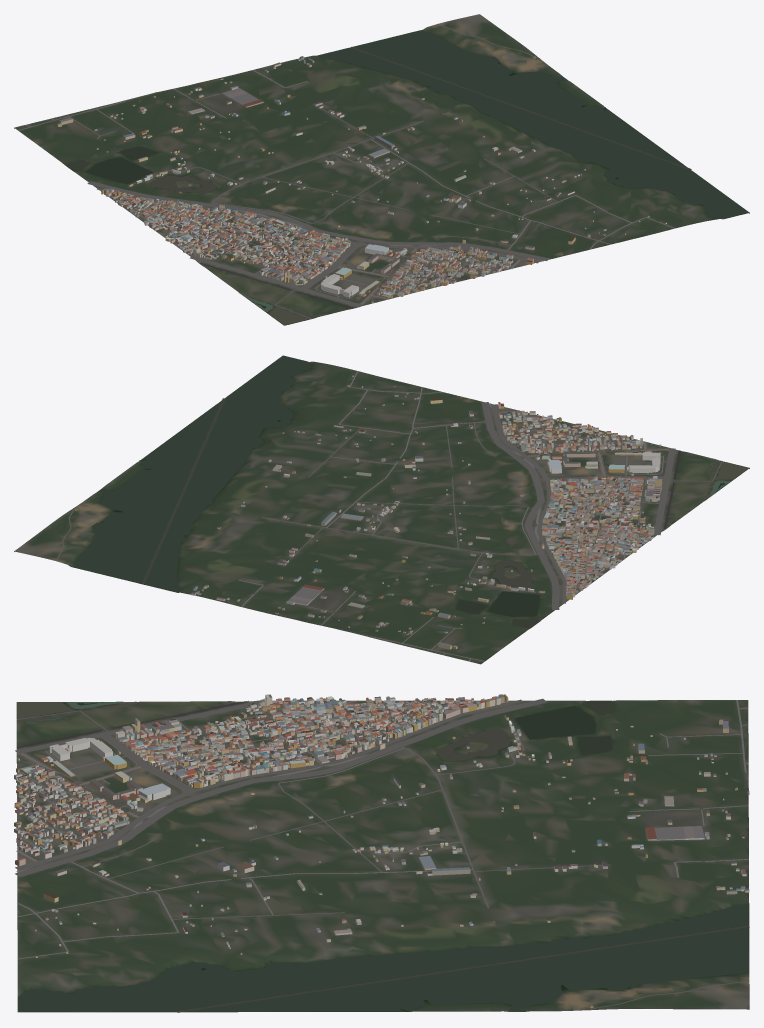
3 renders of one model, top to bottom at view 1: azimuth 30°, elevation 25°; view 2: azimuth 150°, elevation 25°; view 3: azimuth 270°, elevation 25°, orthographic. The views are drawn at different scales.
Parts seen in each view (by area): view 1: ground, water, buildings, roads; view 2: ground, water, buildings, roads; view 3: ground, water, buildings, roads.
Part boxes in pixels (<box>): ground: <box>14,14,749,325</box>; water: <box>65,30,748,325</box>; buildings: <box>57,56,666,303</box>; roads: <box>18,24,674,318</box>; ground: <box>14,358,749,664</box>; water: <box>74,355,748,627</box>; buildings: <box>75,375,662,649</box>; roads: <box>56,371,722,661</box>; ground: <box>16,700,749,1012</box>; water: <box>17,700,749,1012</box>; buildings: <box>14,694,749,1008</box>; roads: <box>15,698,749,1010</box>.
Bounding box in the file's own units: 1413 × 33.79 × 1410.
